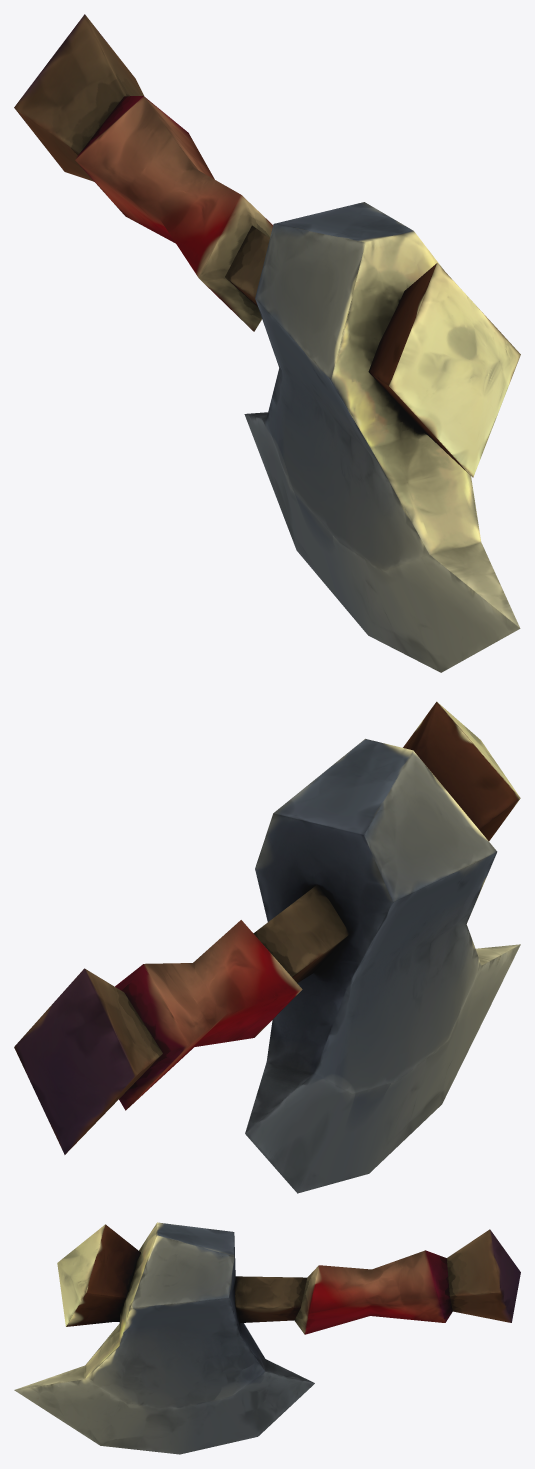
Rendered from low-poly_stylized_axe.glb.
The picture shows the model from 3 angles, top to bottom: view 1: azimuth 30°, elevation 25°; view 2: azimuth 150°, elevation 25°; view 3: azimuth 270°, elevation 25°; orthographic projection. The views are drawn at different scales.
Parts seen in each view (by area): view 1: Cube.001; view 2: Cube.001; view 3: Cube.001.
Boxes of the visible parts, box(x1,y1,x2,y2) form: Cube.001: box(14, 14, 520, 672); Cube.001: box(14, 701, 520, 1193); Cube.001: box(14, 1222, 520, 1454).
Size of the model in its own units: 0.1844 by 0.4472 by 0.8915.
1 material, 1 textured.
